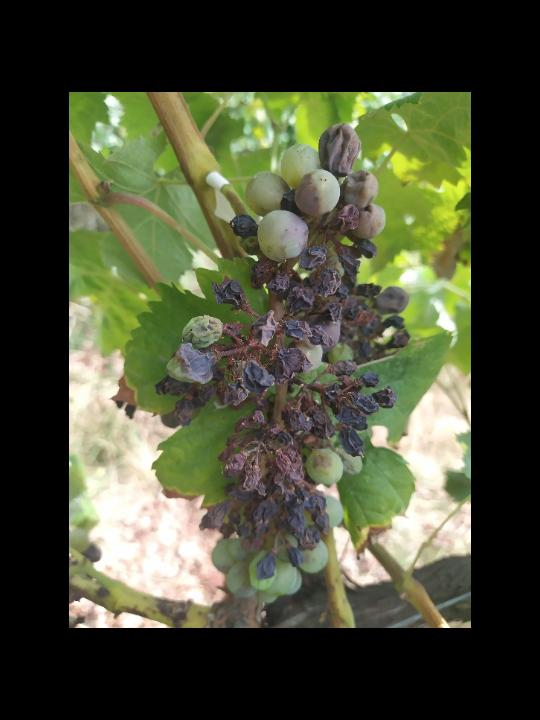grape: (153, 119, 417, 606)
